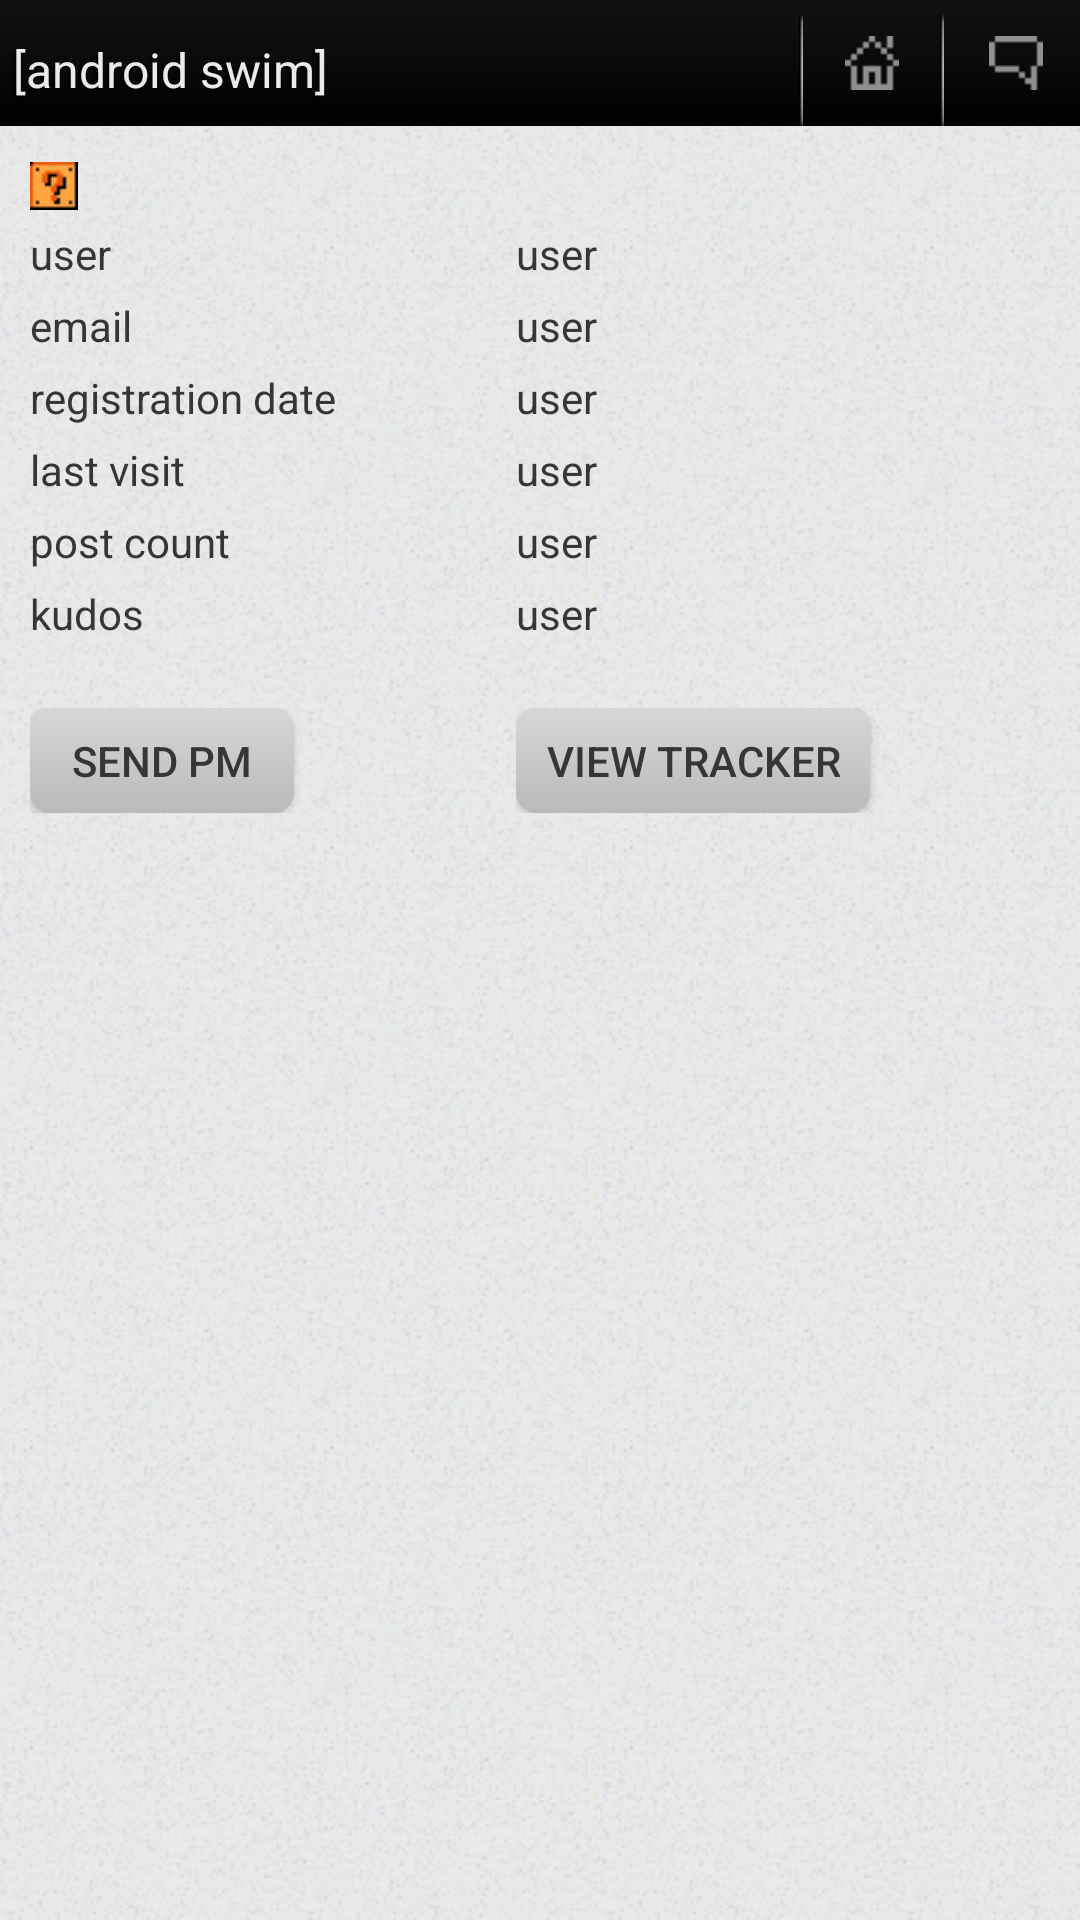

Screen size 1080 × 1920. Icon name, then its box in pixels as rect(x1, y1, x2, y2):
homepixel: rect(845, 36, 899, 90)
